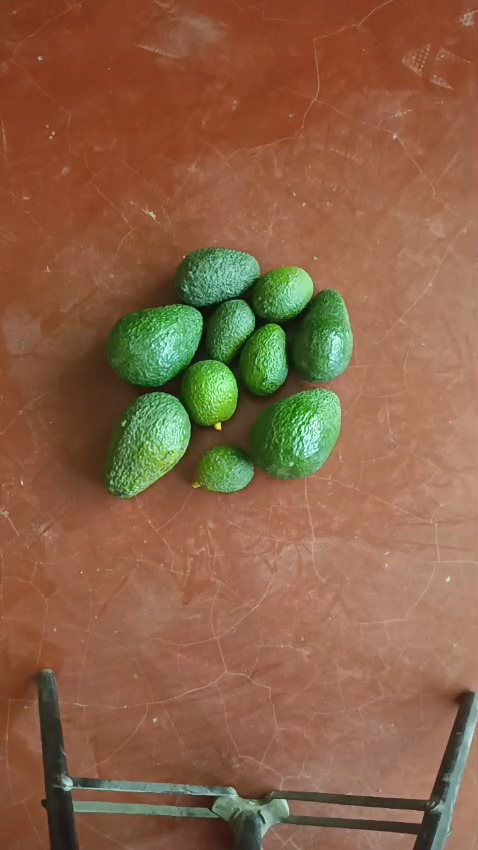Primera: (102, 391, 191, 496), (105, 304, 204, 387), (250, 389, 341, 479)
Segunda: (289, 289, 353, 382), (173, 246, 261, 307)
Tercera: (179, 360, 238, 427), (250, 266, 313, 323), (238, 323, 287, 395), (204, 298, 255, 364), (195, 445, 255, 492)
